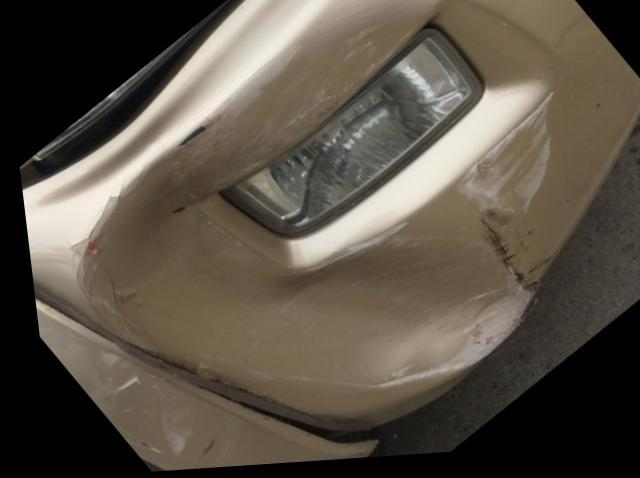dent: (68, 145, 517, 417)
scratch: (171, 9, 403, 169), (447, 93, 552, 309)
